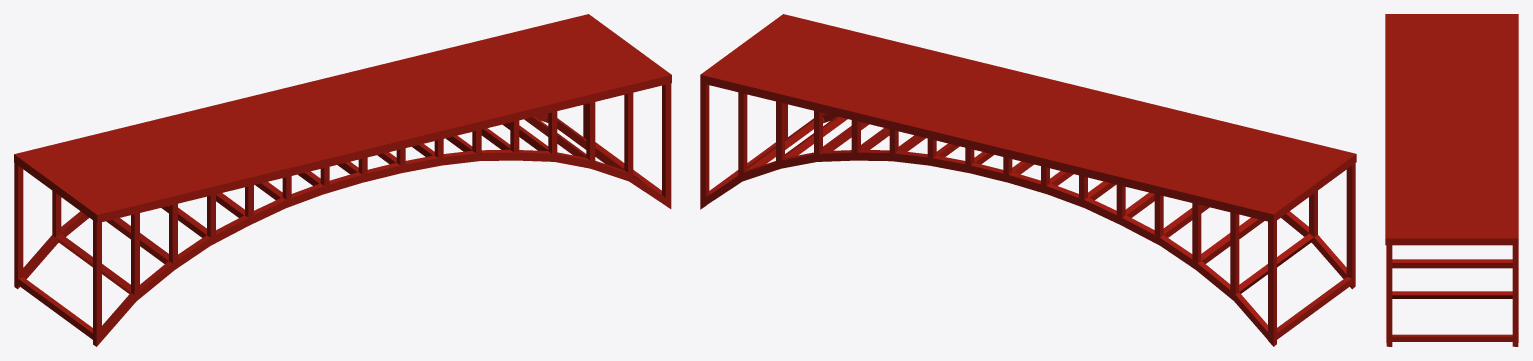
File: archbridge.obj
The picture shows the model from 3 angles, left to right: view 1: azimuth 30°, elevation 25°; view 2: azimuth 150°, elevation 25°; view 3: azimuth 270°, elevation 25°; orthographic projection. The views are drawn at different scales.
Visible parts, largest first — view 1: Cube_Cube.004; view 2: Cube_Cube.004; view 3: Cube_Cube.004.
Part boxes in pixels (x1=…): Cube_Cube.004: x1=14, y1=14, x2=671, y2=346; Cube_Cube.004: x1=700, y1=14, x2=1356, y2=346; Cube_Cube.004: x1=1385, y1=14, x2=1518, y2=346.
Size of the model in its own units: 21.95 by 4.94 by 5.5.
